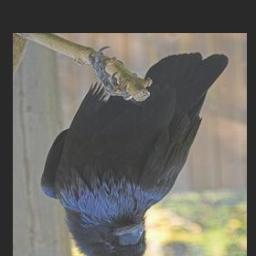Crow: (40, 46, 229, 256)
